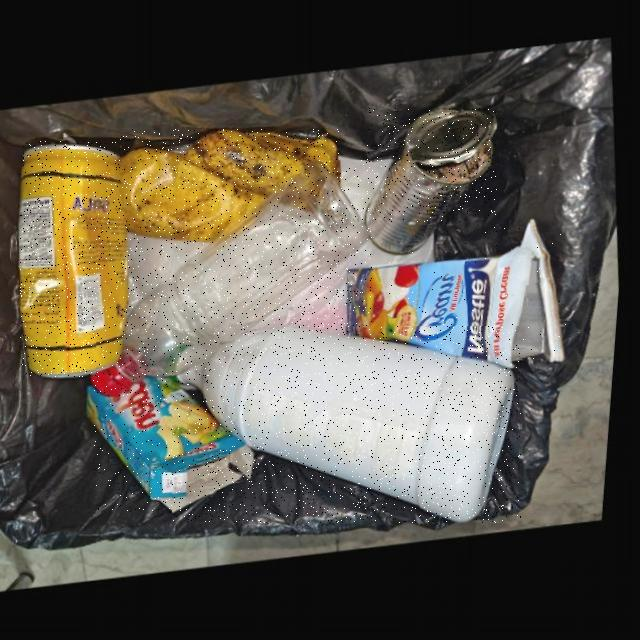biowaste: (121, 129, 340, 243)
metal: (20, 141, 135, 377), (368, 108, 499, 254)
paper: (351, 222, 567, 369), (94, 378, 261, 512)
plastic: (173, 326, 521, 523), (96, 161, 372, 398)
